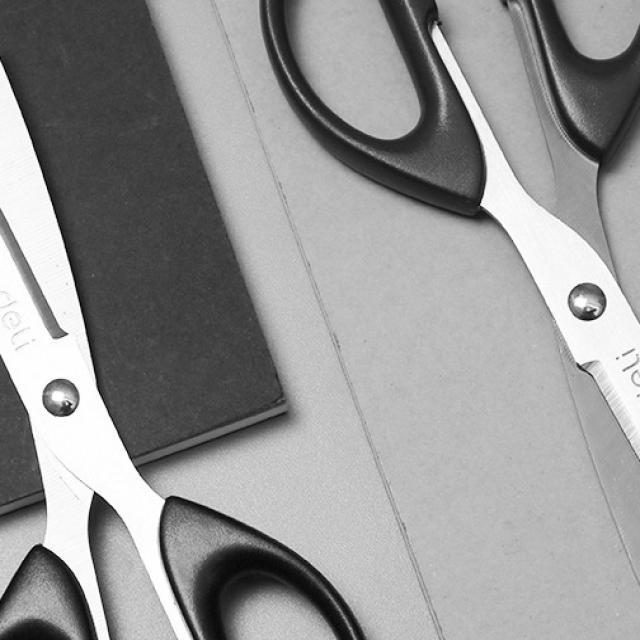tesoura: (263, 0, 639, 583), (0, 60, 364, 639)
